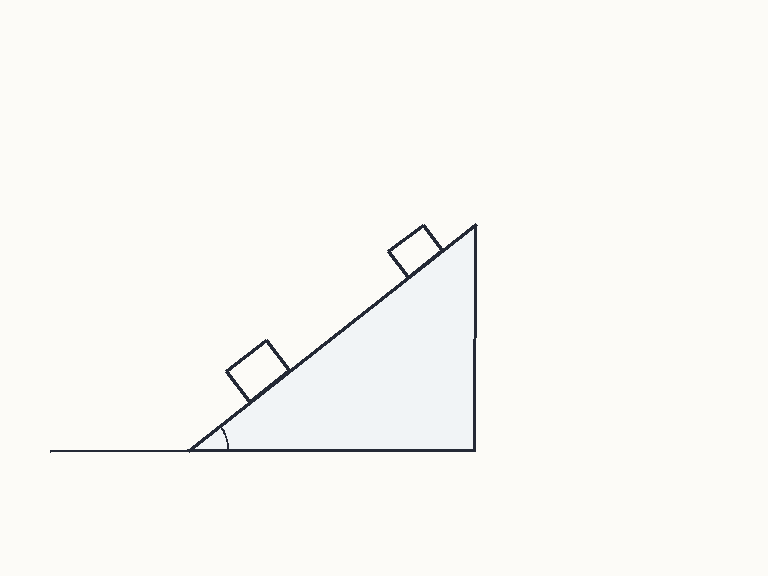block: (224, 338, 292, 403), (386, 223, 445, 279)
ramp: (186, 223, 477, 451)
